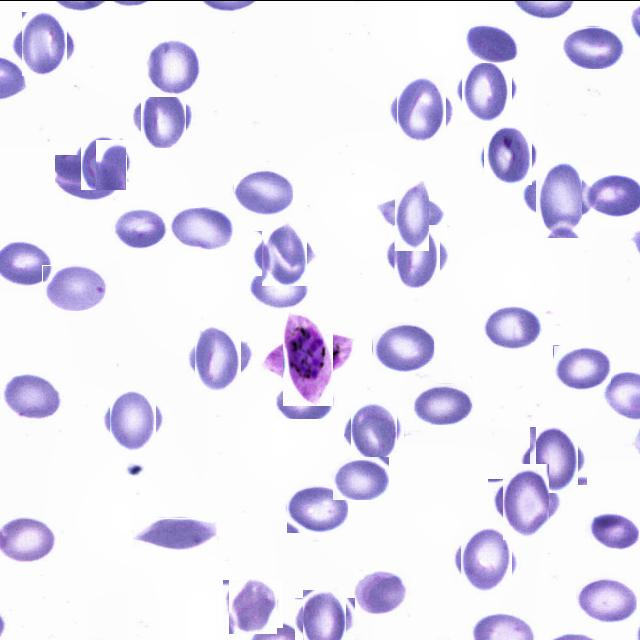red blood cell: (528, 168, 590, 230), (496, 470, 556, 532), (457, 530, 516, 590), (190, 330, 248, 388), (392, 80, 450, 138), (55, 154, 127, 200), (144, 38, 202, 95), (372, 319, 434, 372), (526, 431, 582, 488), (459, 61, 515, 117), (389, 228, 445, 284), (286, 482, 348, 532), (17, 15, 72, 71), (42, 264, 108, 310), (170, 207, 237, 252), (258, 225, 312, 280), (481, 303, 544, 350), (576, 574, 637, 622), (106, 392, 160, 446), (481, 127, 535, 181), (226, 576, 280, 630), (234, 167, 293, 215), (137, 90, 190, 143), (348, 402, 400, 456), (386, 189, 438, 242), (132, 517, 218, 549), (553, 344, 611, 391), (248, 266, 307, 312), (563, 26, 625, 68), (412, 382, 474, 424), (2, 374, 61, 418), (354, 570, 410, 616), (332, 455, 389, 499), (78, 136, 128, 186), (299, 592, 350, 640), (462, 23, 521, 62), (112, 208, 168, 249), (276, 382, 334, 418), (586, 511, 640, 549)
schizont: (272, 321, 345, 394)
